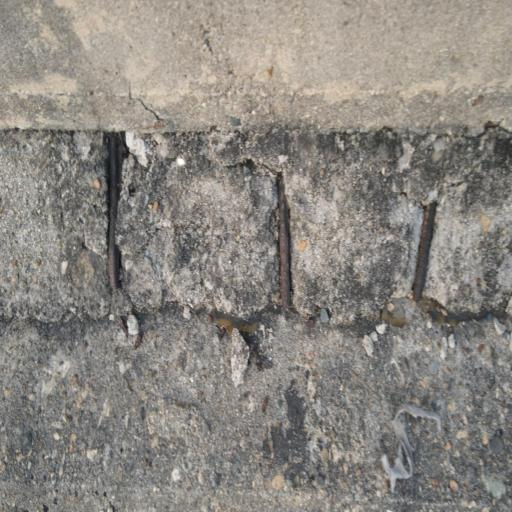exposed_rebar: (412, 201, 460, 325), (107, 133, 126, 290), (277, 172, 291, 309), (217, 315, 257, 334), (381, 311, 406, 325), (463, 315, 487, 318)
